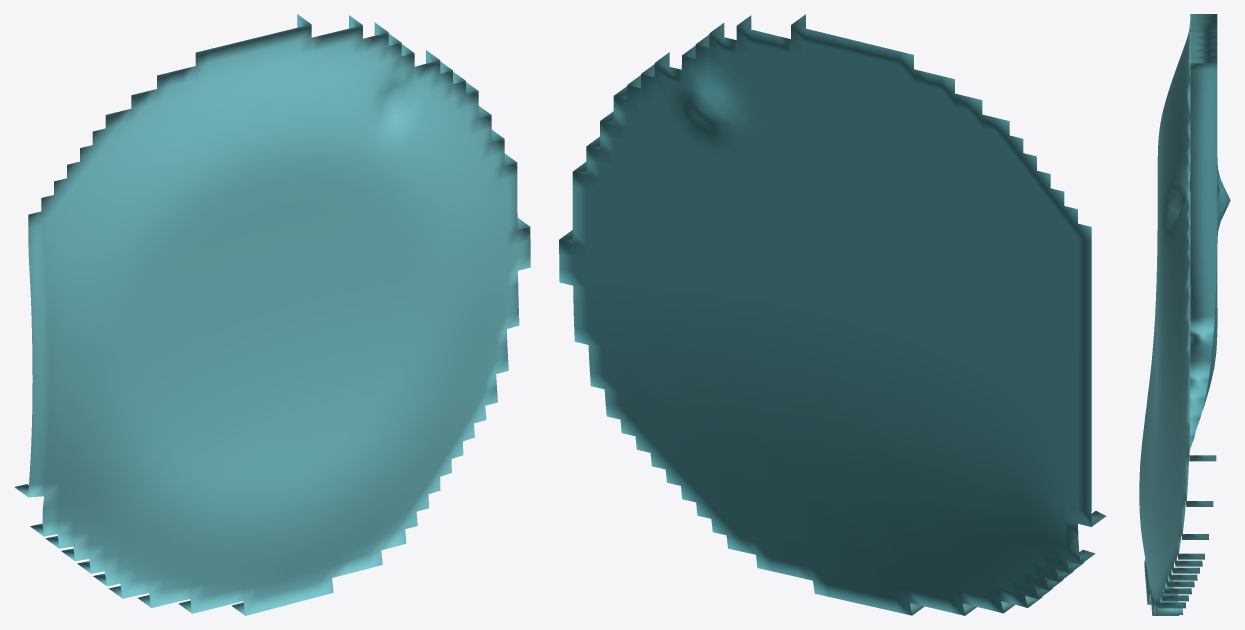
The model's file is PAIR-OFFLOAD-1ST_RIGHT_addon.glb.
3 renders of one model, left to right at view 1: azimuth 30°, elevation 25°; view 2: azimuth 150°, elevation 25°; view 3: azimuth 270°, elevation 25°, orthographic. The views are drawn at different scales.
Parts seen in each view (by area): view 1: world; view 2: world; view 3: world.
Part boxes in pixels (box(x1,y1,x2,y2)): world: box(14, 14, 530, 615); world: box(559, 14, 1106, 615); world: box(1139, 14, 1230, 615).
Size of the model in its own units: 39 by 41 by 6.4.
